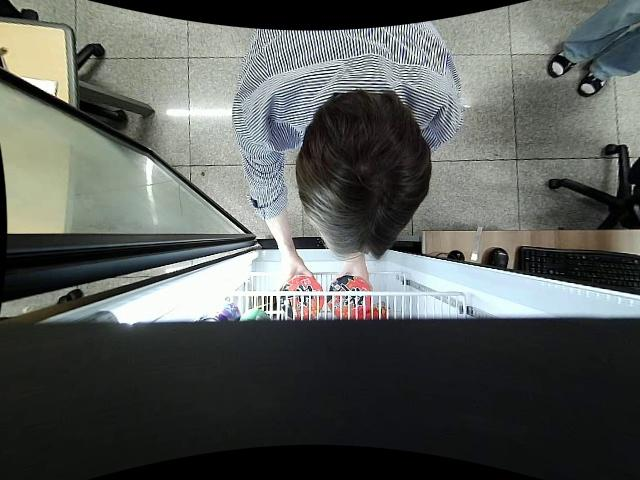00_hand: (333, 257, 372, 287), (277, 262, 315, 287)
01_shinRamen_L: (281, 274, 324, 319), (327, 278, 372, 319)
